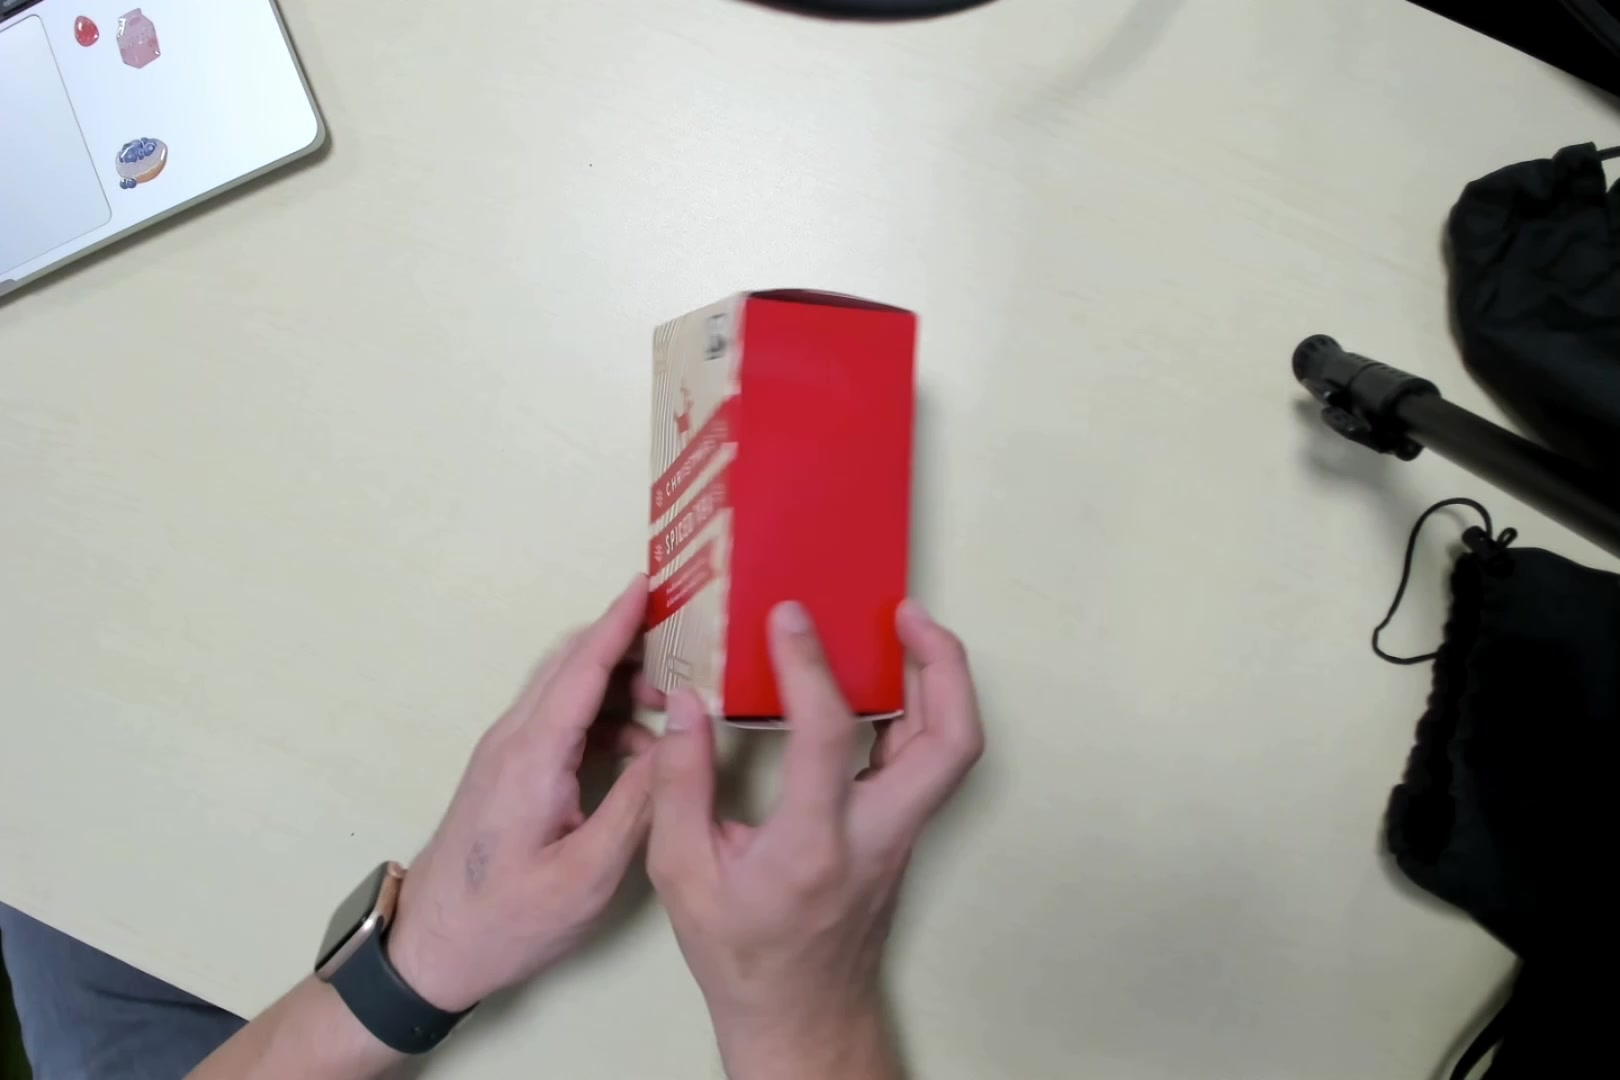Tea(PowderLeaves)_100-199g_Halal_NonHealthy: (645, 282, 912, 730)
